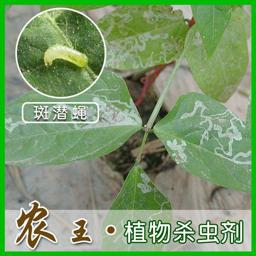liriomyza: (96, 5, 186, 70), (179, 100, 252, 167), (71, 86, 143, 128), (43, 44, 89, 69), (164, 137, 189, 164), (4, 117, 28, 132), (136, 172, 152, 194)
